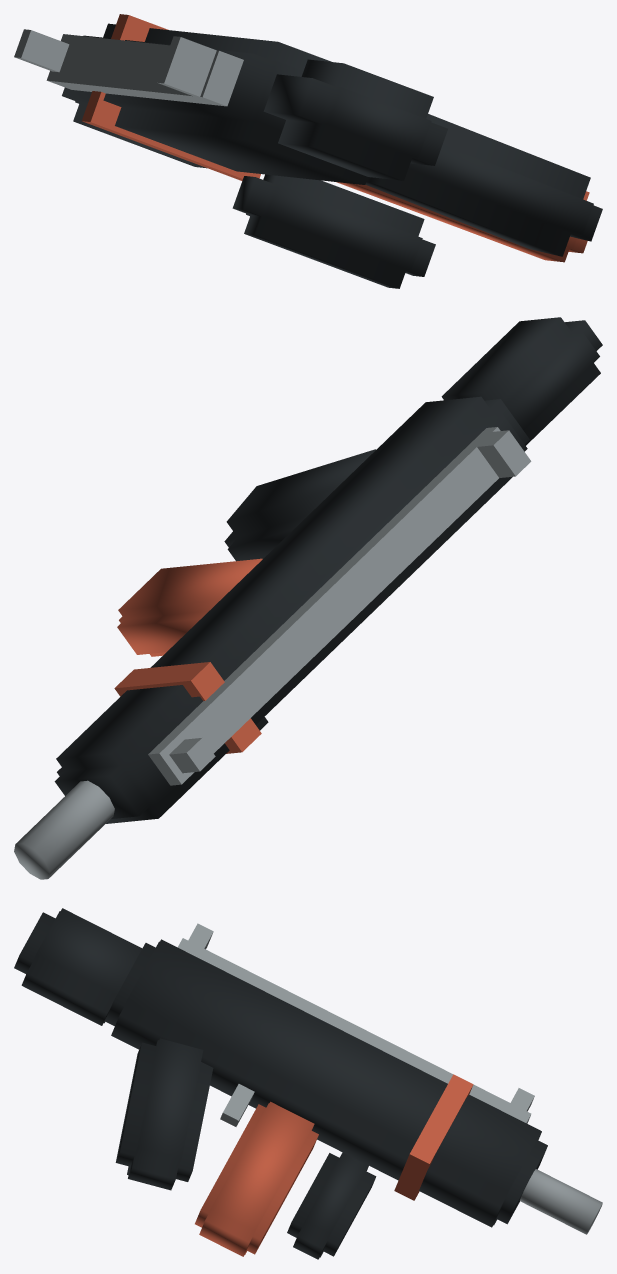
The model's file is oc_weapon_compact_01.glb.
The picture shows the model from 3 angles, top to bottom: view 1: azimuth 30°, elevation 25°; view 2: azimuth 150°, elevation 25°; view 3: azimuth 270°, elevation 25°; orthographic projection. The views are drawn at different scales.
Parts seen in each view (by area): view 1: Weapon_Mount_OC_Weapon_Body, Weapon_Mount_OC_Weapon_Steel, Weapon_Mount_OC_Weapon_Accent, Magazine_OC_Weapon_Accent; view 2: Weapon_Mount_OC_Weapon_Body, Weapon_Mount_OC_Weapon_Steel, Magazine_OC_Weapon_Accent, Weapon_Mount_OC_Weapon_Accent; view 3: Weapon_Mount_OC_Weapon_Body, Magazine_OC_Weapon_Accent, Weapon_Mount_OC_Weapon_Steel, Weapon_Mount_OC_Weapon_Accent.
Boxes of the visible parts, x1,y1,x2,y2 form: Weapon_Mount_OC_Weapon_Body: (62,23,602,288); Weapon_Mount_OC_Weapon_Steel: (14,29,243,106); Weapon_Mount_OC_Weapon_Accent: (81,14,260,180); Magazine_OC_Weapon_Accent: (336,182,589,262); Weapon_Mount_OC_Weapon_Body: (54,317,602,823); Weapon_Mount_OC_Weapon_Steel: (14,427,531,879); Magazine_OC_Weapon_Accent: (117,558,262,656); Weapon_Mount_OC_Weapon_Accent: (114,662,261,753); Weapon_Mount_OC_Weapon_Body: (14,908,547,1259); Magazine_OC_Weapon_Accent: (195,1101,318,1256); Weapon_Mount_OC_Weapon_Steel: (177,923,602,1234); Weapon_Mount_OC_Weapon_Accent: (394,1074,473,1200).
Size of the model in its own units: 0.2156 by 0.1981 by 0.3916.
